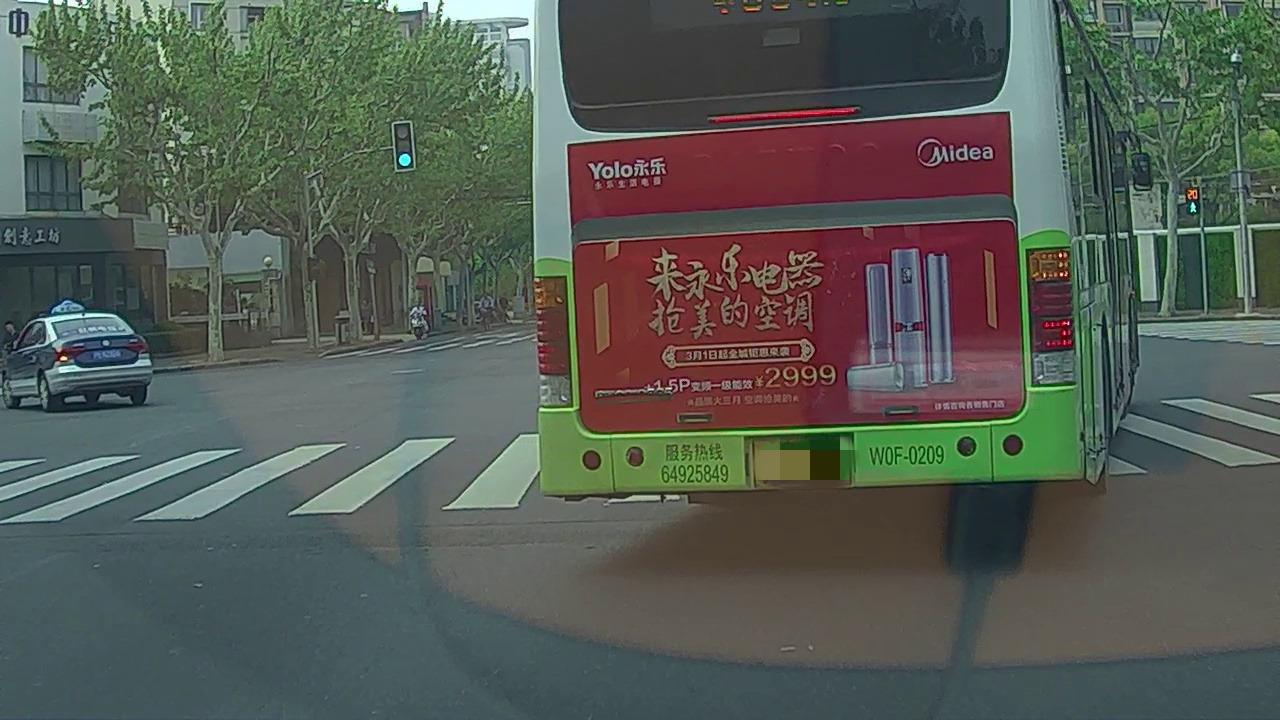traffic_light: (393, 122, 414, 170)
